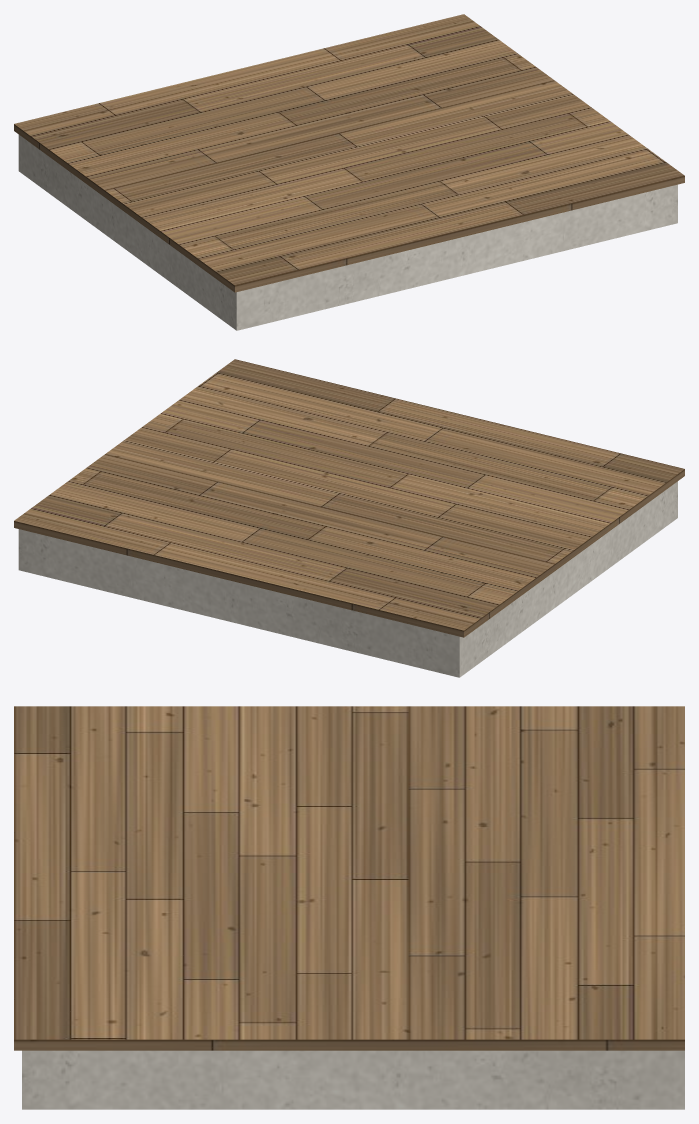
Rendered from floor_wood_c_e0_0_30_0.glb.
3 views of the same model, one above another, from view 1: azimuth 30°, elevation 25°; view 2: azimuth 150°, elevation 25°; view 3: azimuth 270°, elevation 25° (orthographic). The views are drawn at different scales.
Visible parts, largest first — view 1: floor_wood_c_e0_0_30_0_attic, floor_wood_c_e0_0_30_0_plaster; view 2: floor_wood_c_e0_0_30_0_attic, floor_wood_c_e0_0_30_0_plaster; view 3: floor_wood_c_e0_0_30_0_attic, floor_wood_c_e0_0_30_0_plaster.
Part boxes in pixels (x1,y1,x2,y2): floor_wood_c_e0_0_30_0_attic: (14,14,684,292); floor_wood_c_e0_0_30_0_plaster: (18,135,677,330); floor_wood_c_e0_0_30_0_attic: (14,359,684,637); floor_wood_c_e0_0_30_0_plaster: (18,481,677,677); floor_wood_c_e0_0_30_0_attic: (14,706,684,1050); floor_wood_c_e0_0_30_0_plaster: (22,1050,684,1109).
Bounding box in the file's own units: 2 × 0.205 × 1.7.
2 materials, 2 textured.
